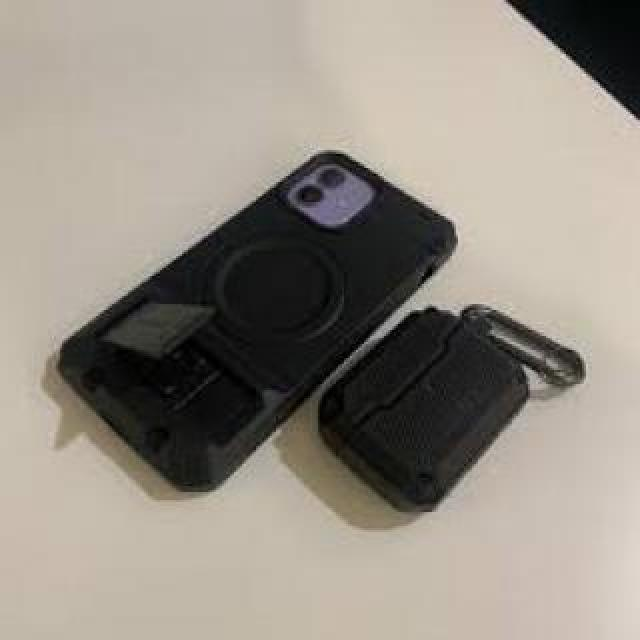smart phone: (39, 127, 408, 515)
